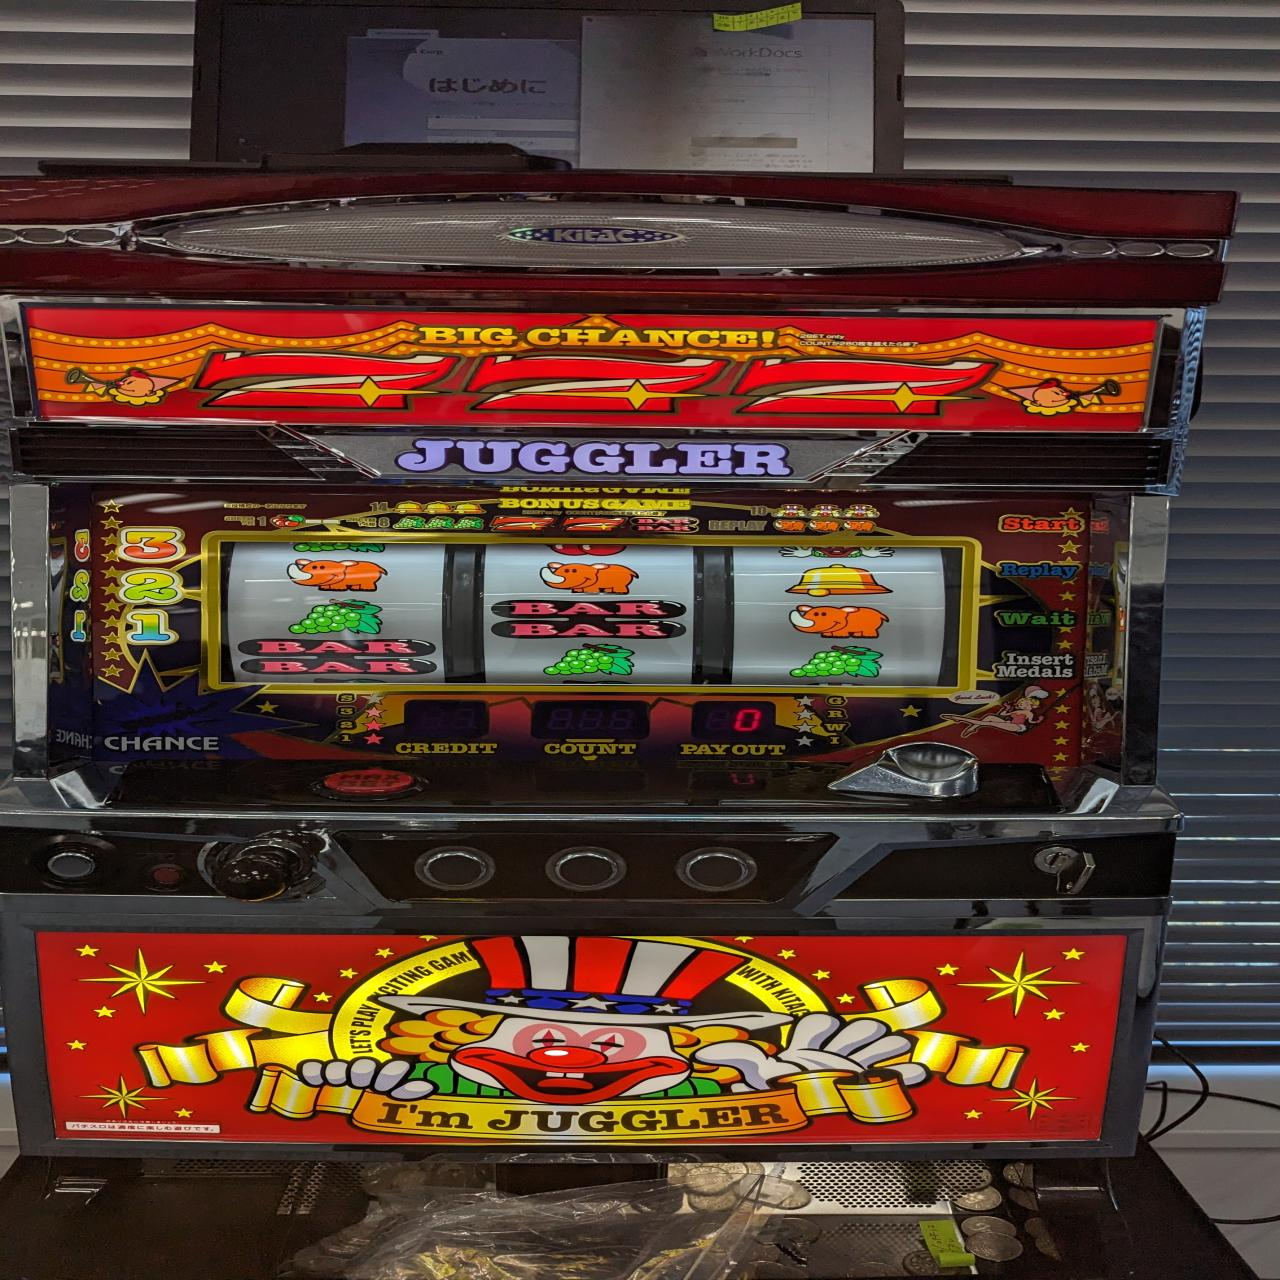Display: (218, 535, 973, 692)
bar: (231, 635, 442, 679), (488, 597, 690, 640)
bell: (777, 563, 899, 599)
grape: (281, 597, 390, 636), (777, 645, 892, 681), (536, 642, 638, 679)
rhino: (527, 559, 647, 595), (285, 557, 393, 594), (787, 602, 892, 640)
